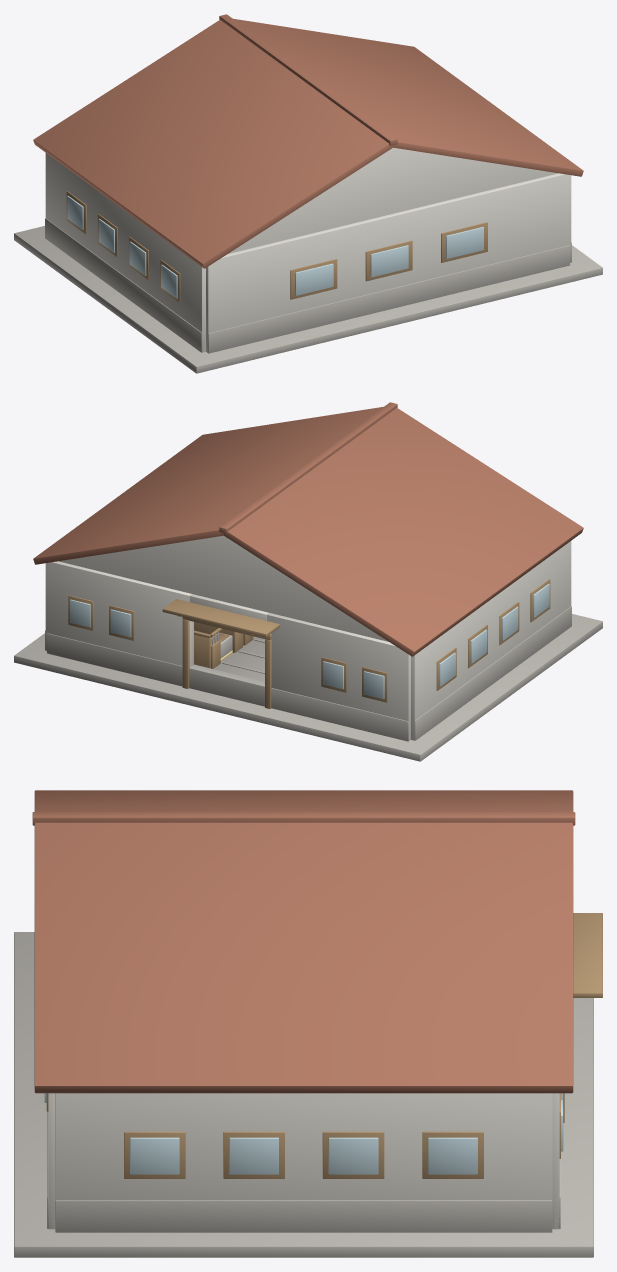
File: th18_stall.glb
3 views of the same model, one above another, from view 1: azimuth 30°, elevation 25°; view 2: azimuth 150°, elevation 25°; view 3: azimuth 270°, elevation 25° (orthographic). The views are drawn at different scales.
Visible parts, largest first — view 1: Cube.042, Cube.005, Cube.043, Cube, Giebel.001, Cube.020, Cube.041, Cube.029, Cube.044, Cube.007, Cube.009, Cube.011 (+3 smaller); view 2: Cube.042, Cube.043, Cube, Giebel, Cube.002, Cube.003, Cube.020, Cube.040, Cube.029, Cube.044, Cube.048, Cube.144 (+8 smaller); view 3: Cube.043, Cube.030, Cube, Cube.039, Cube.042, Cube.044, Cube.048, Cube.036, Cube.038, Cube.032, Cube.034, Cube.035 (+5 smaller).
Boxes of the visible parts, x1,y1,x2,y2 form: Cube.042: (33,20,393,268); Cube.005: (206,173,569,352); Cube.043: (233,18,583,176); Cube: (14,226,602,373); Giebel.001: (228,147,557,253); Cube.020: (45,153,205,352); Cube.041: (206,245,569,353); Cube.029: (45,218,205,352); Cube.044: (219,14,397,145); Cube.007: (295,263,333,295); Cube.009: (370,245,408,277); Cube.011: (446,227,483,258); Cube.042: (223,408,583,656); Cube.043: (33,406,383,564); Cube: (14,614,602,761); Giebel: (59,535,388,641); Cube.002: (266,613,410,740); Cube.003: (47,561,193,667); Cube.020: (411,541,571,740); Cube.040: (47,633,408,741); Cube.029: (411,606,571,740); Cube.044: (219,402,397,533); Cube.048: (162,599,279,636); Cube.144: (213,637,264,681); Cube.043: (34,822,573,1093); Cube.030: (55,1093,552,1200); Cube: (14,932,593,1257); Cube.039: (55,1200,552,1232); Cube.042: (34,790,573,811); Cube.044: (32,812,575,825); Cube.048: (573,913,602,997); Cube.036: (328,1137,378,1174); Cube.038: (428,1137,477,1174); Cube.032: (130,1137,179,1174); Cube.034: (229,1137,278,1174); Cube.035: (322,1131,384,1178).
Bounding box in the file's own units: 18 × 7.61 × 14.22.
